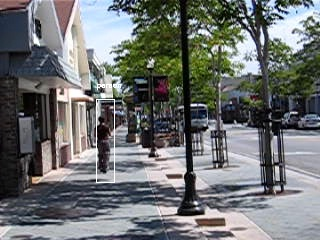person: (94, 116, 113, 173), (93, 116, 112, 173), (95, 116, 114, 173), (94, 115, 113, 172), (94, 117, 113, 174)
target_negative: (69, 33, 165, 157), (16, 8, 76, 202), (82, 60, 202, 113), (28, 226, 227, 233), (231, 185, 300, 196)
